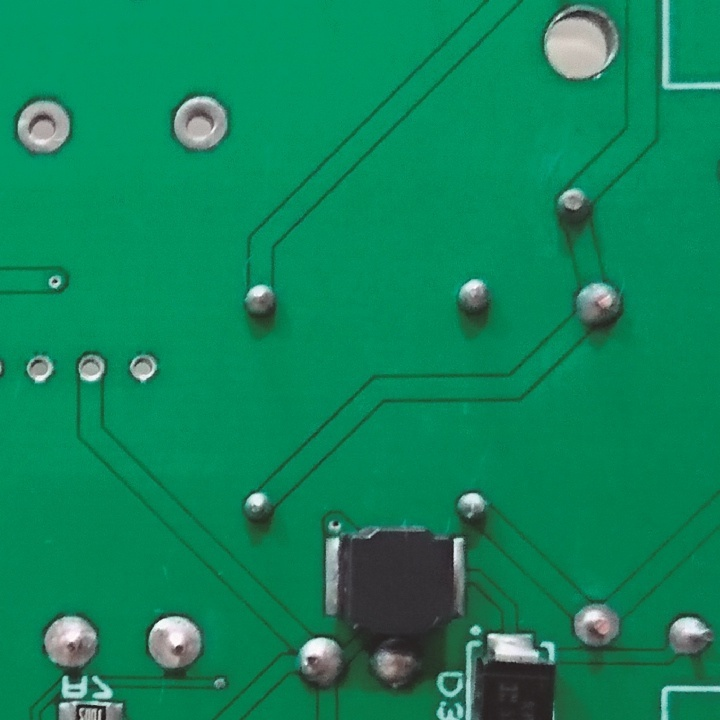F: (40, 612, 106, 676), (167, 91, 231, 155), (12, 96, 77, 157), (146, 614, 204, 673), (570, 600, 624, 653), (666, 611, 718, 661), (73, 352, 110, 388), (24, 352, 56, 386), (125, 352, 160, 383)
